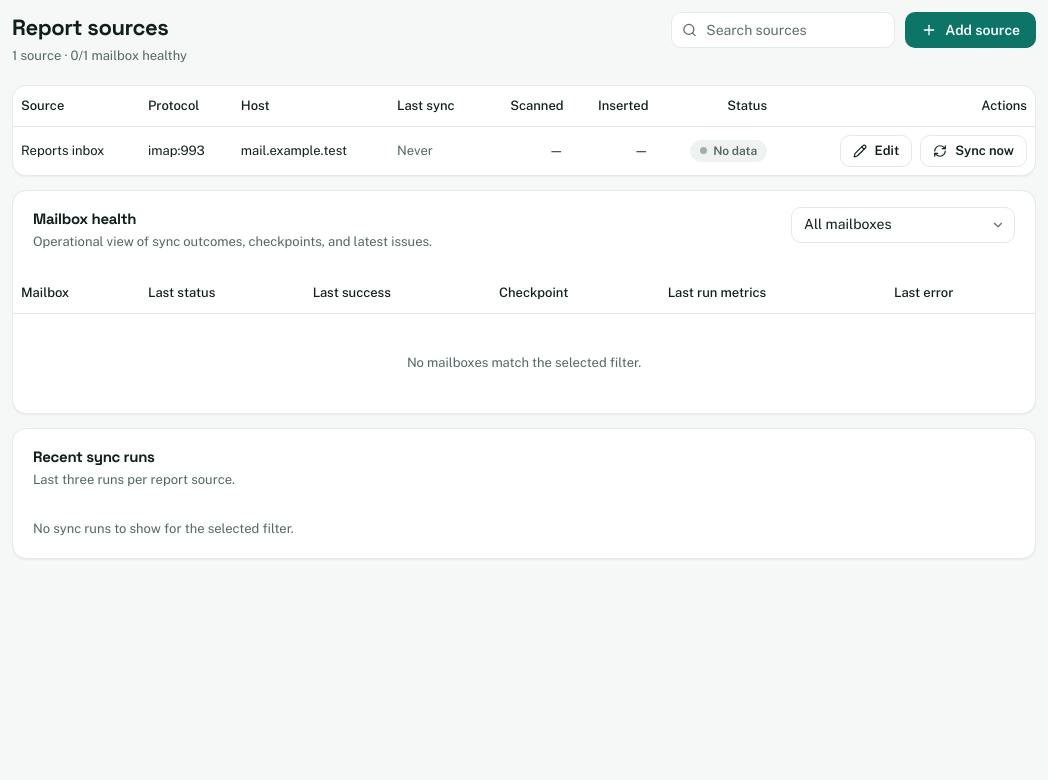
manual sync status › shows an error when the sync request is rejected
Click the button "Sync now". click: (974, 151)
box: [920, 135, 1027, 167]
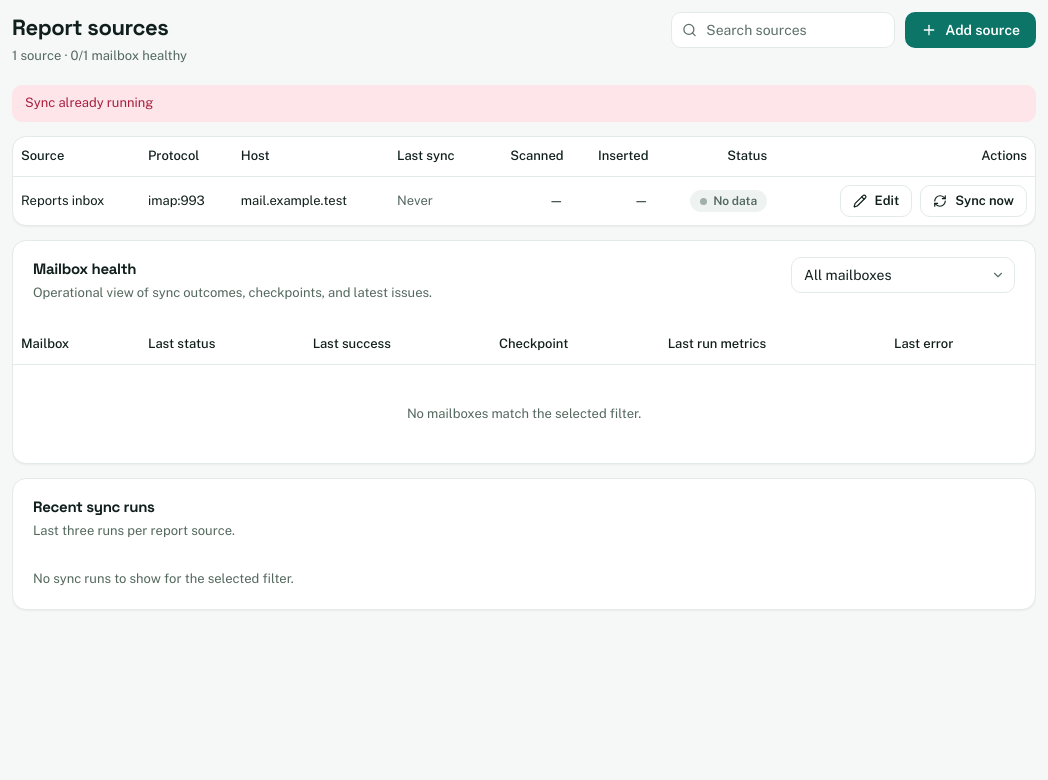
Check: the text "Sync already running" is shown, box [12, 85, 1036, 122]
